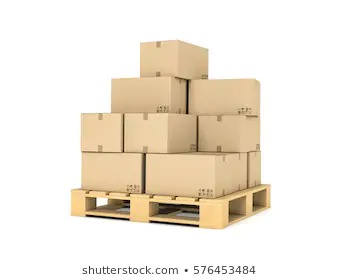box: (148, 151, 249, 188), (111, 78, 193, 114), (139, 41, 214, 80), (81, 150, 145, 189), (198, 80, 268, 114), (200, 115, 264, 151), (76, 109, 129, 151)
pallet: (67, 190, 306, 229)
